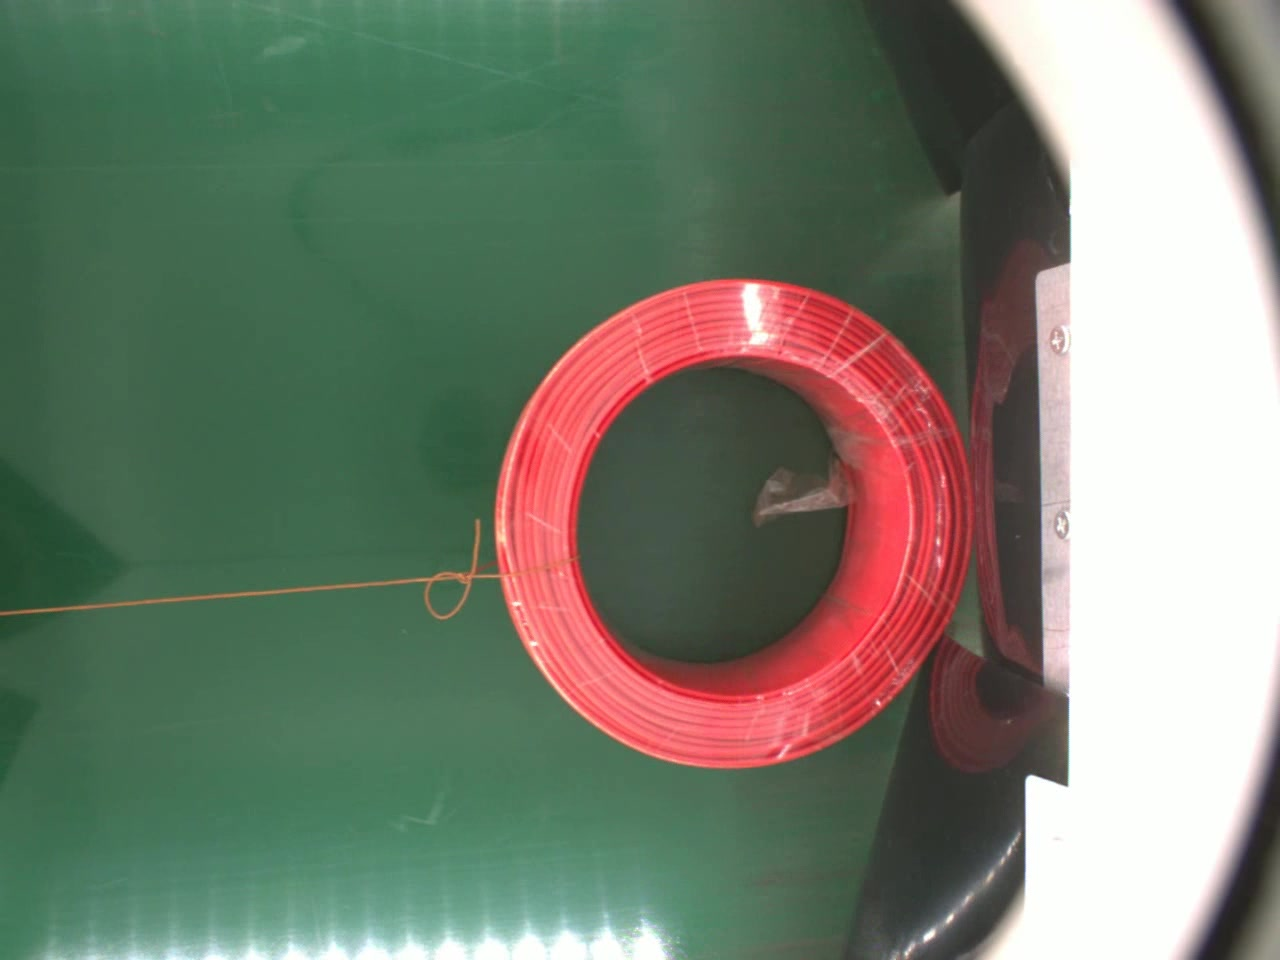red: (492, 276, 981, 772)
